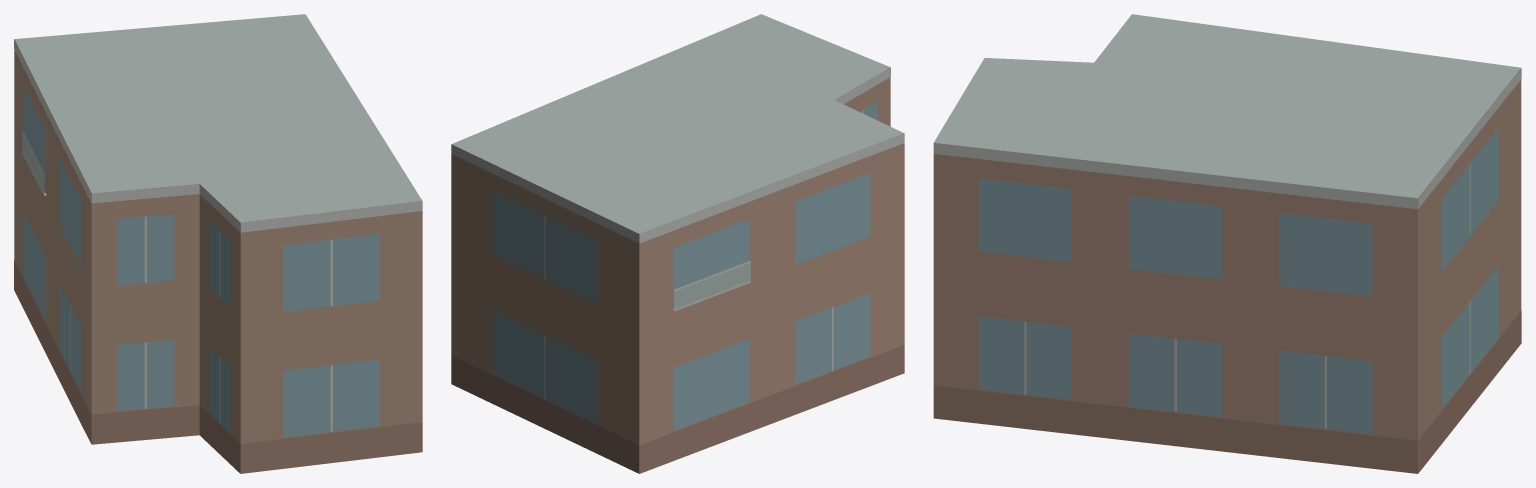
The model's file is survey-upis-32490425.glb.
3 renders of one model, left to right at view 1: azimuth 30°, elevation 25°; view 2: azimuth 150°, elevation 25°; view 3: azimuth 270°, elevation 25°, orthographic. The views are drawn at different scales.
Parts seen in each view (by area): view 1: survey-upis-32490425.tmp; view 2: survey-upis-32490425.tmp; view 3: survey-upis-32490425.tmp.
Part boxes in pixels (x1,y1,x2,y2): survey-upis-32490425.tmp: [14, 14, 422, 473]; survey-upis-32490425.tmp: [451, 14, 904, 473]; survey-upis-32490425.tmp: [933, 14, 1521, 473].
Bounding box in the file's own units: 8.76 × 6.1 × 11.81.
